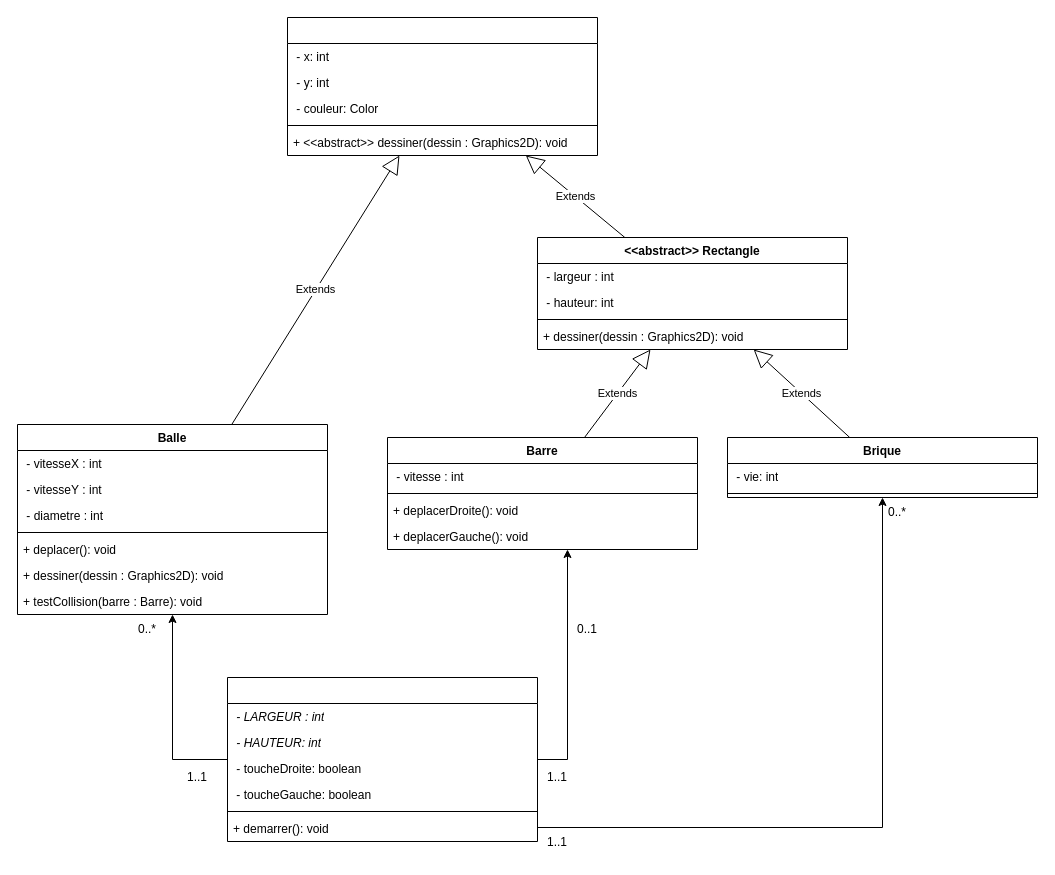
The diagram is 1055 pixels wide and 875 high, and some of its shapes have lost their labels. The shapes that lost their labels are listed below. From the top down, each one's box as (x1, y1, x2, y2) in pixels, then its label:
(286, 16, 598, 156): <<abstract>> Sprite
(226, 676, 538, 842): CasseBrique
